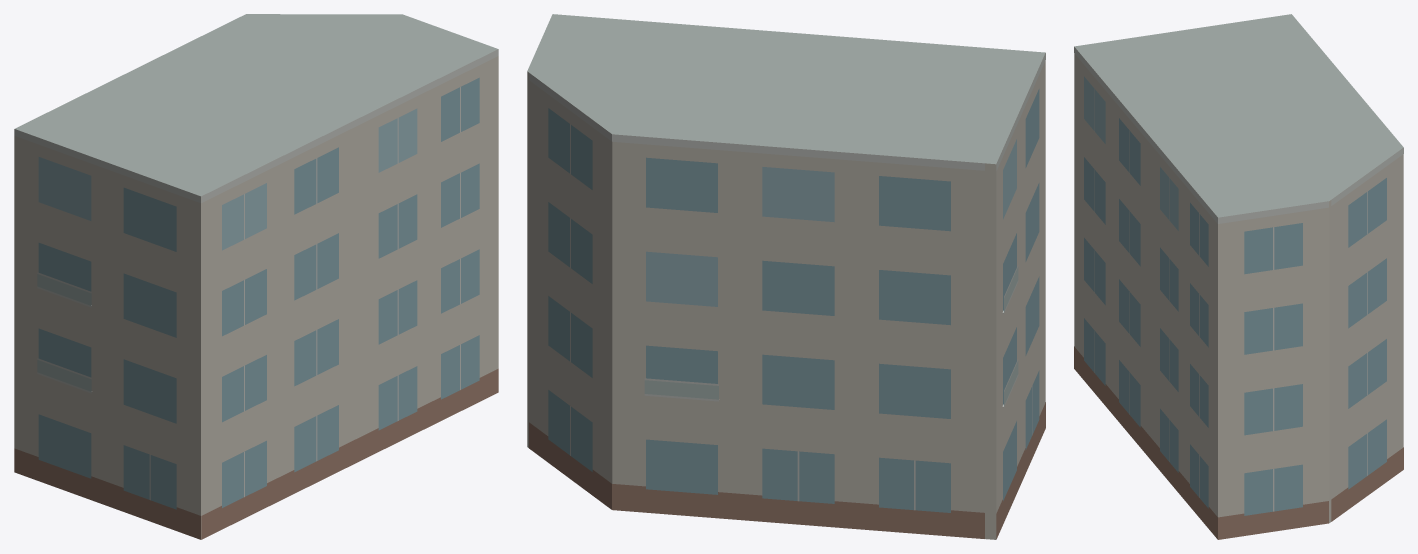
File: survey-upis-32613907.glb
3 renders of one model, left to right at view 1: azimuth 30°, elevation 25°; view 2: azimuth 150°, elevation 25°; view 3: azimuth 270°, elevation 25°, orthographic. The views are drawn at different scales.
Parts seen in each view (by area): view 1: survey-upis-32613907.tmp; view 2: survey-upis-32613907.tmp; view 3: survey-upis-32613907.tmp.
Boxes of the visible parts, x1,y1,x2,y2 form: survey-upis-32613907.tmp: (14, 14, 498, 539); survey-upis-32613907.tmp: (527, 14, 1045, 539); survey-upis-32613907.tmp: (1074, 14, 1403, 539).
Size of the model in its own units: 16.55 by 12.2 by 11.32.
